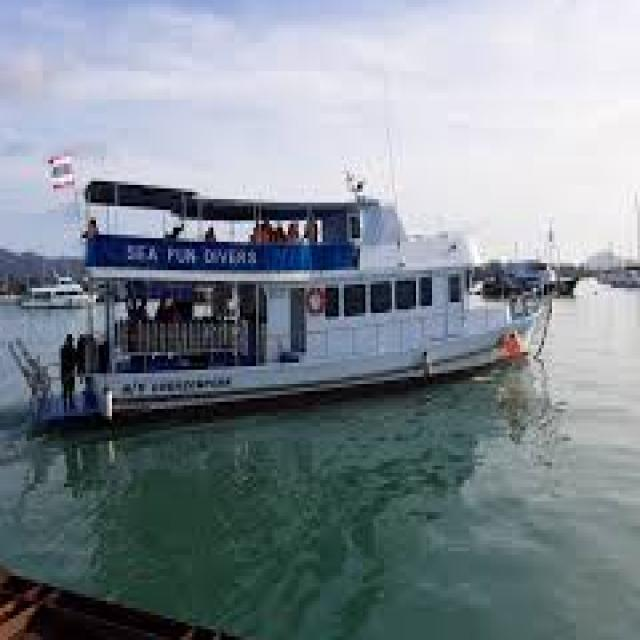fishing boat: (38, 160, 546, 414)
